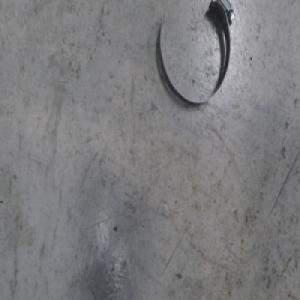AdjustableClamp: (159, 0, 237, 106)
